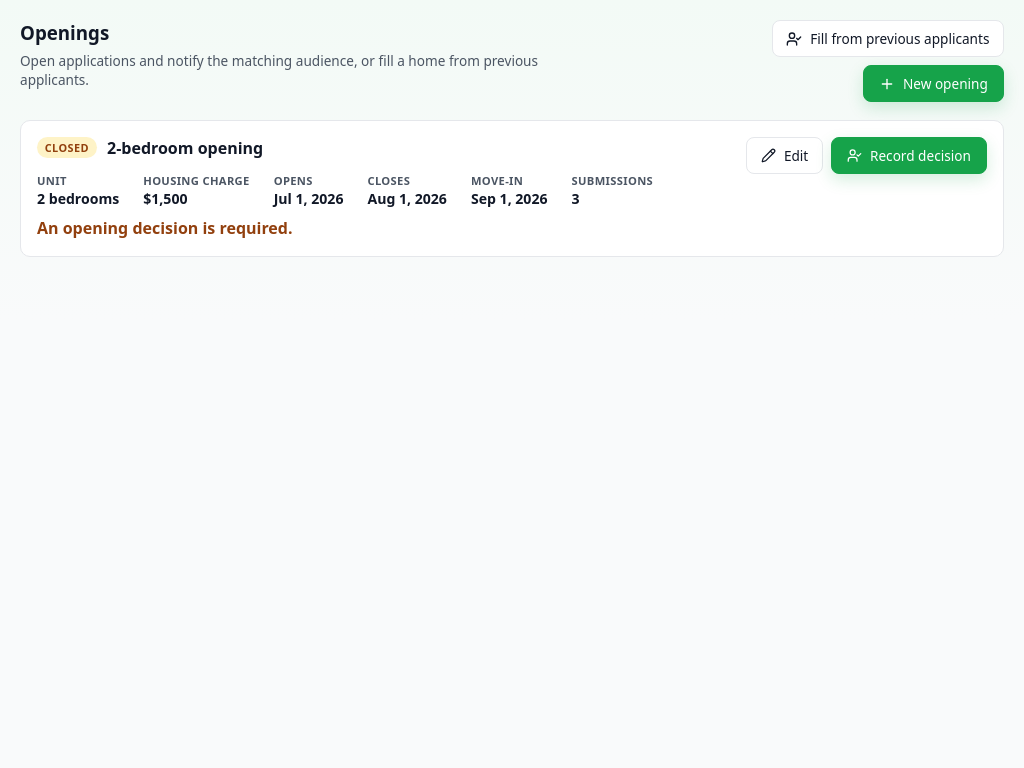
Scenario: OpeningsPanel modes › requires confirmation before recording that no household was selected
Click the button "Record decision" at (909, 155), box [831,137,987,174]
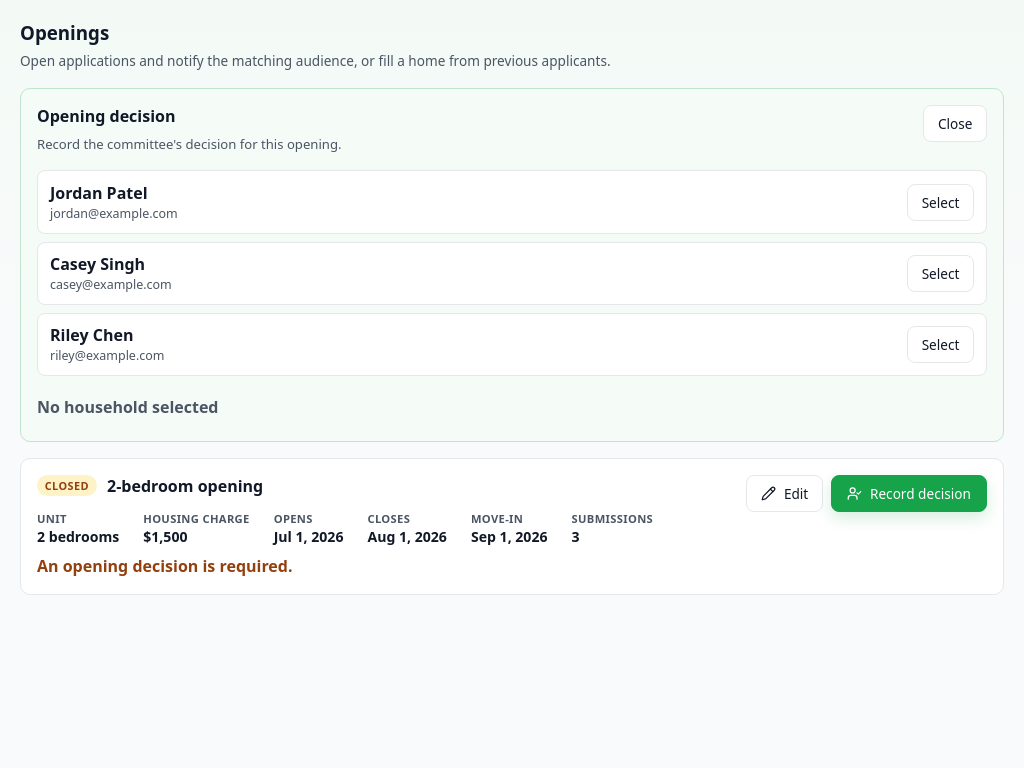
Click the button "No household selected" at (128, 407), box [37,388,218,425]
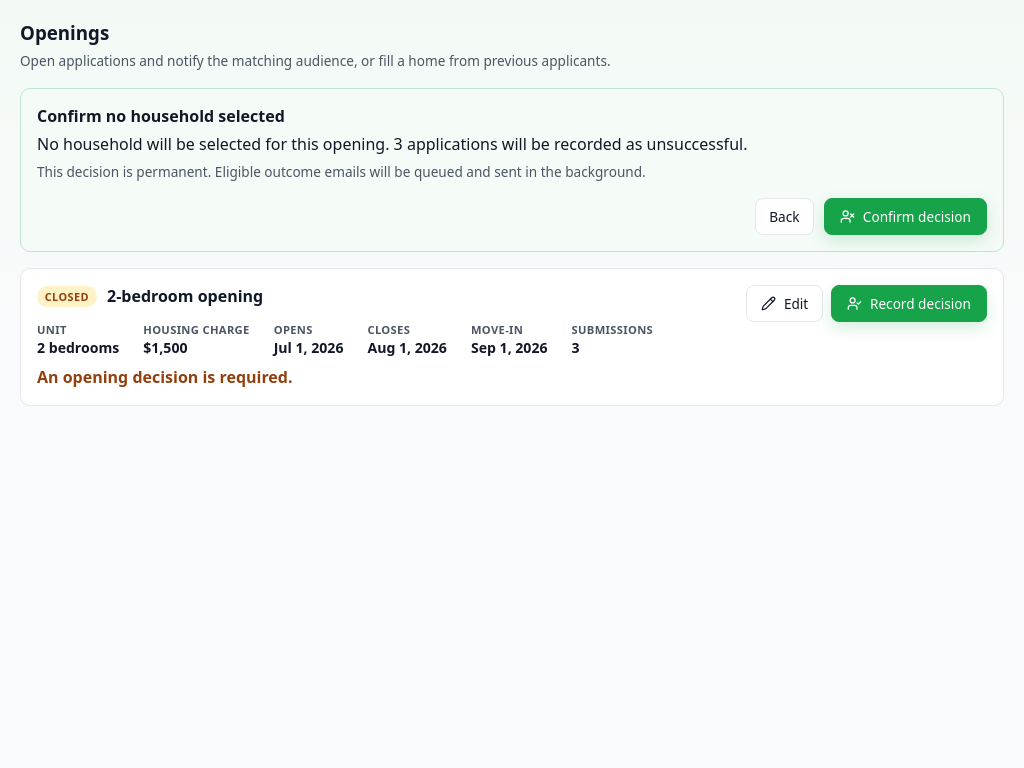
Check: the heading "Confirm no household selected" is shown, box [37,105,285,127]
Click the button "Confirm decision" at (905, 217), box [824,198,987,236]
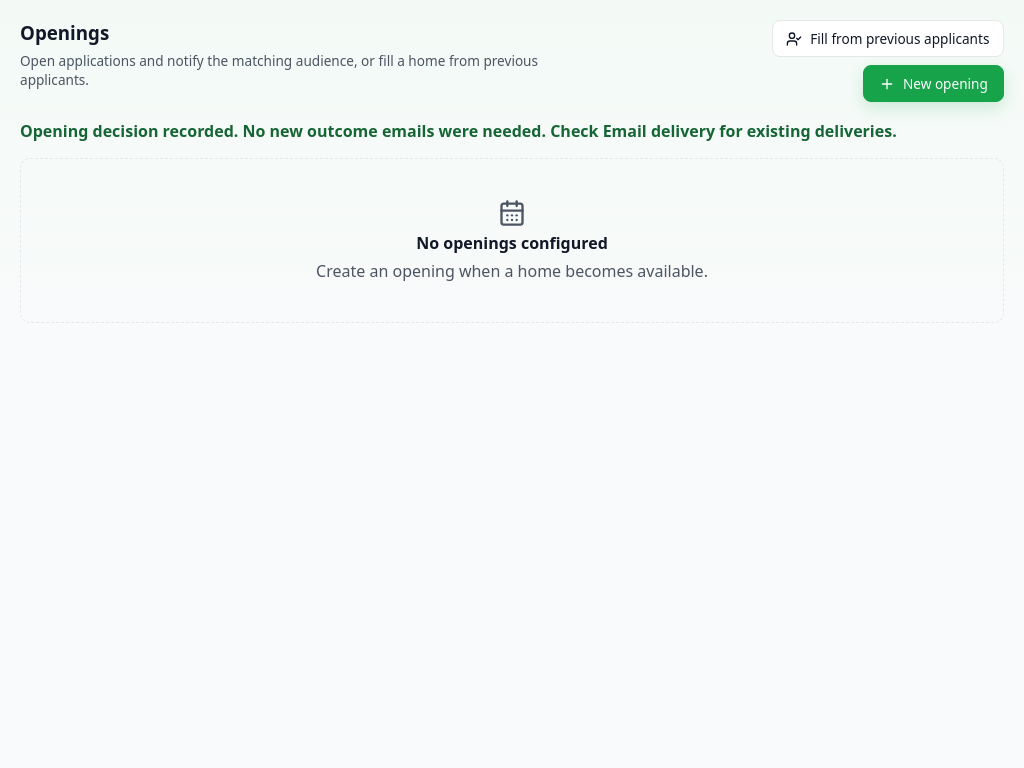
Check: the text "Opening decision recorded. No new outcome emails were needed. Check Email delivery for existing deliveries." is shown, box [20,120,897,142]
